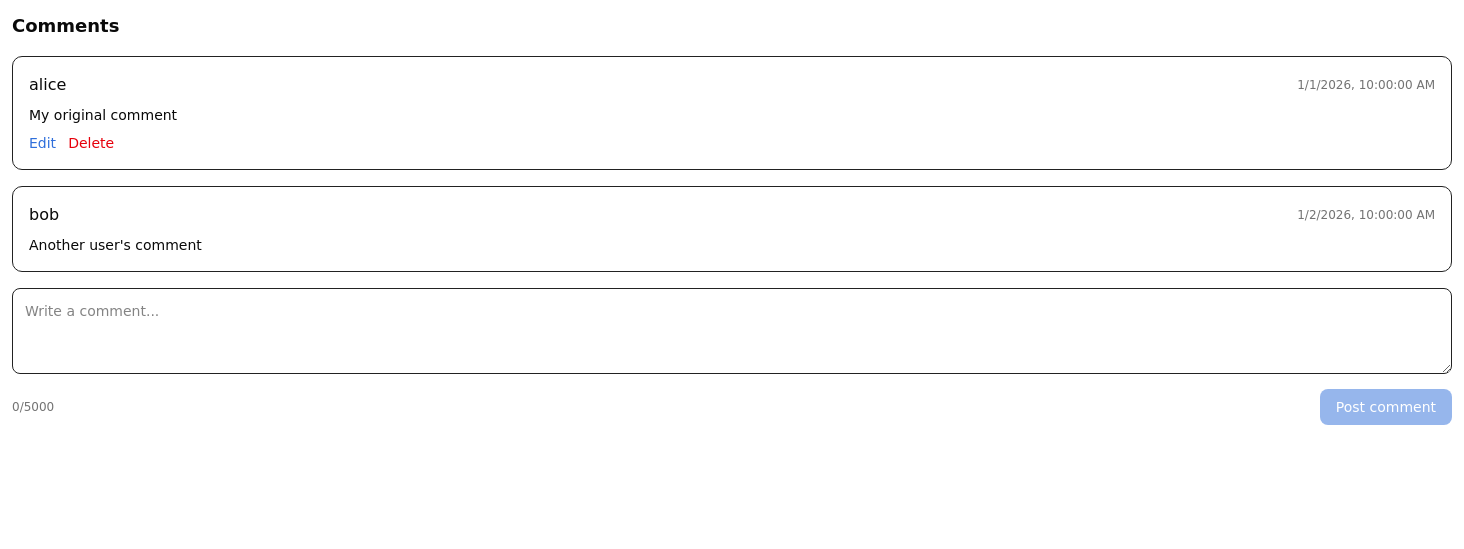
SkillComments › allows the owner to edit their own comment
This screenshot has width=1464, height=549.
Expected: the text "My original comment" is shown, [29, 107, 177, 123]
Click the button "Edit" at (43, 143), box [29, 133, 56, 153]
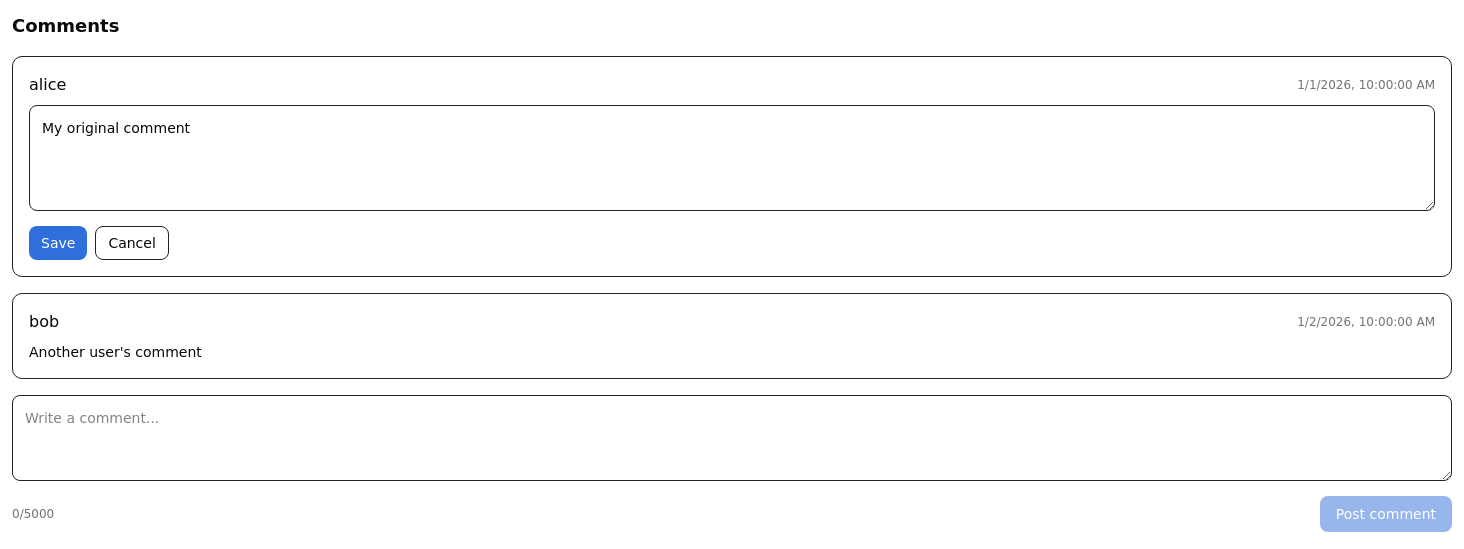
Replace the text in the text box named "Edit comment" with "Updated comment content" at (732, 158), box [29, 105, 1435, 211]
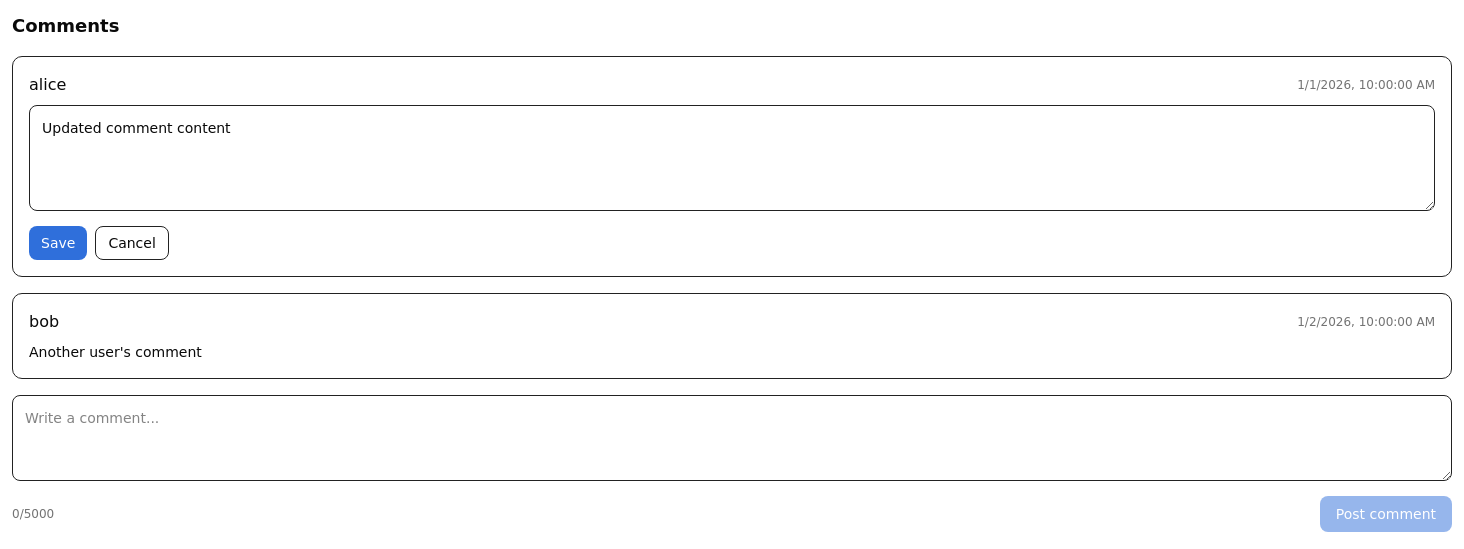
Click the button "Save" at (58, 243), box [29, 226, 87, 260]
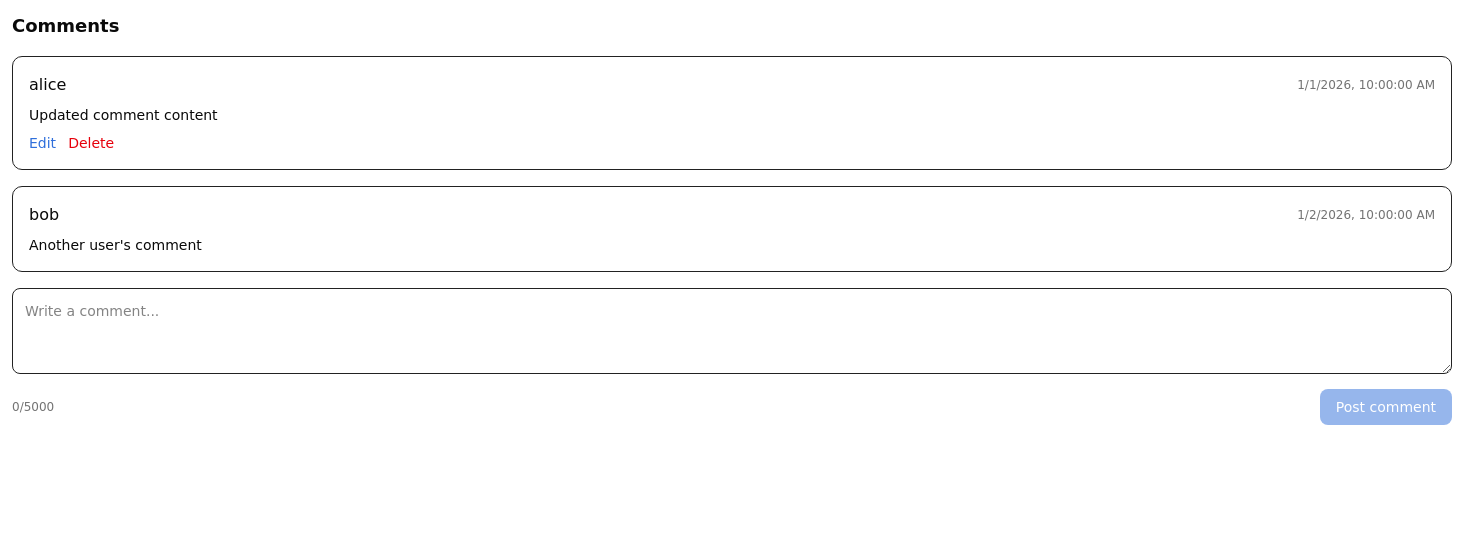
Now the text "Updated comment content" is shown, box [29, 107, 218, 123]
